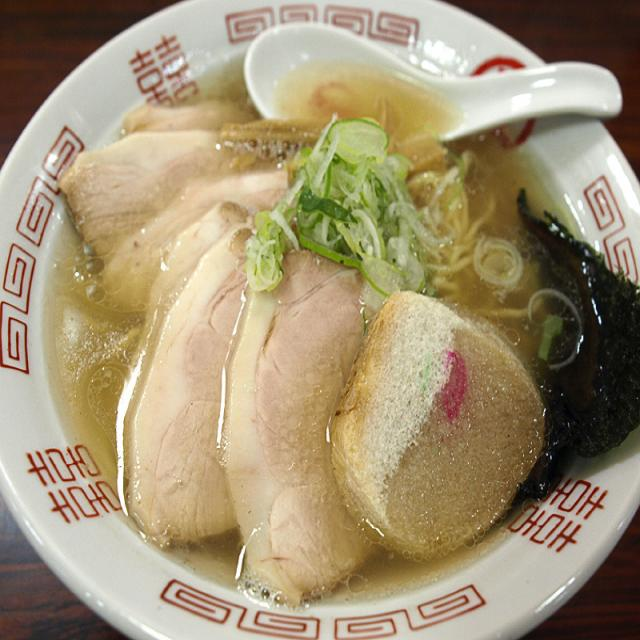面条主食: (51, 44, 610, 593)
